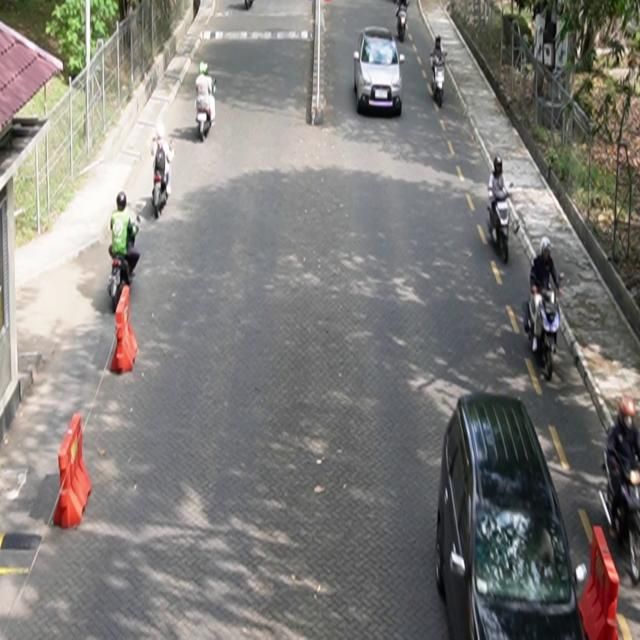car: (436, 392, 589, 640), (354, 26, 406, 117)
